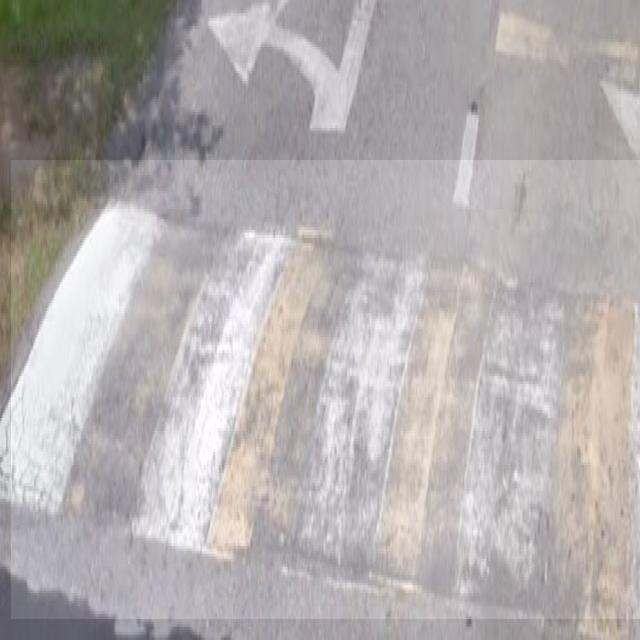speed-bump: (11, 160, 640, 619)
